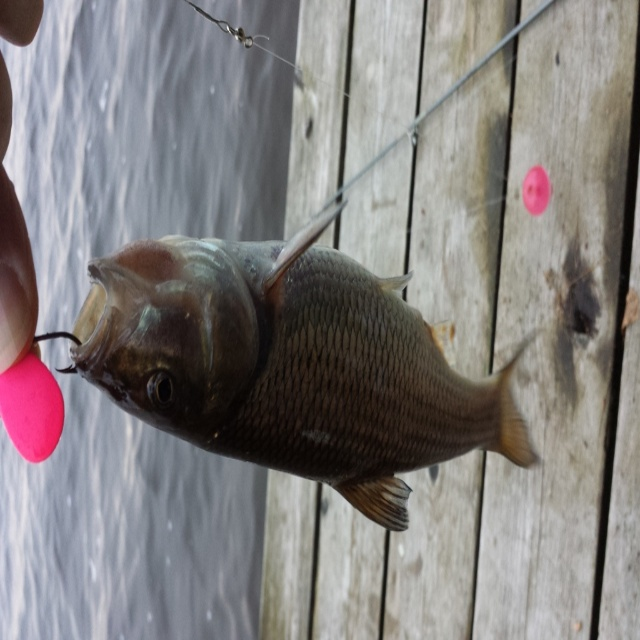Fish: (50, 198, 552, 528)
